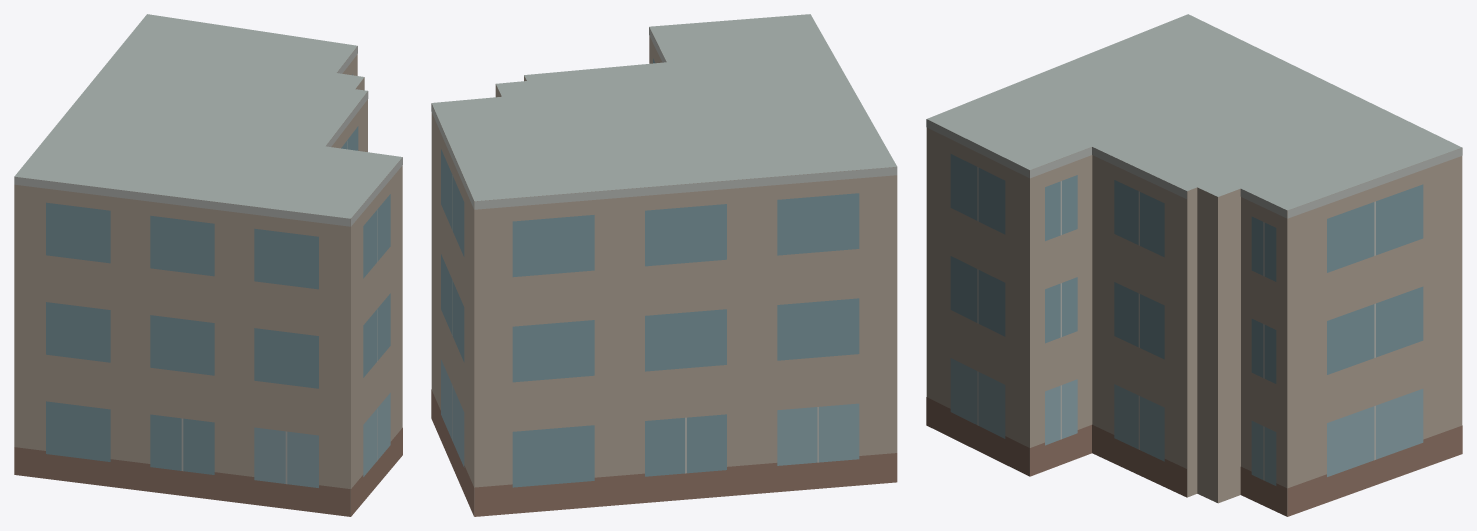
Rendered from survey-upis-32977816.glb.
The picture shows the model from 3 angles, left to right: view 1: azimuth 30°, elevation 25°; view 2: azimuth 150°, elevation 25°; view 3: azimuth 270°, elevation 25°; orthographic projection. The views are drawn at different scales.
Visible parts, largest first — view 1: survey-upis-32977816.tmp; view 2: survey-upis-32977816.tmp; view 3: survey-upis-32977816.tmp.
Part boxes in pixels (bbox=[...]): survey-upis-32977816.tmp: bbox=[14, 14, 402, 516]; survey-upis-32977816.tmp: bbox=[431, 14, 897, 516]; survey-upis-32977816.tmp: bbox=[926, 14, 1462, 516].
Bounding box in the file's own units: 12.52 × 9.1 × 14.43.
